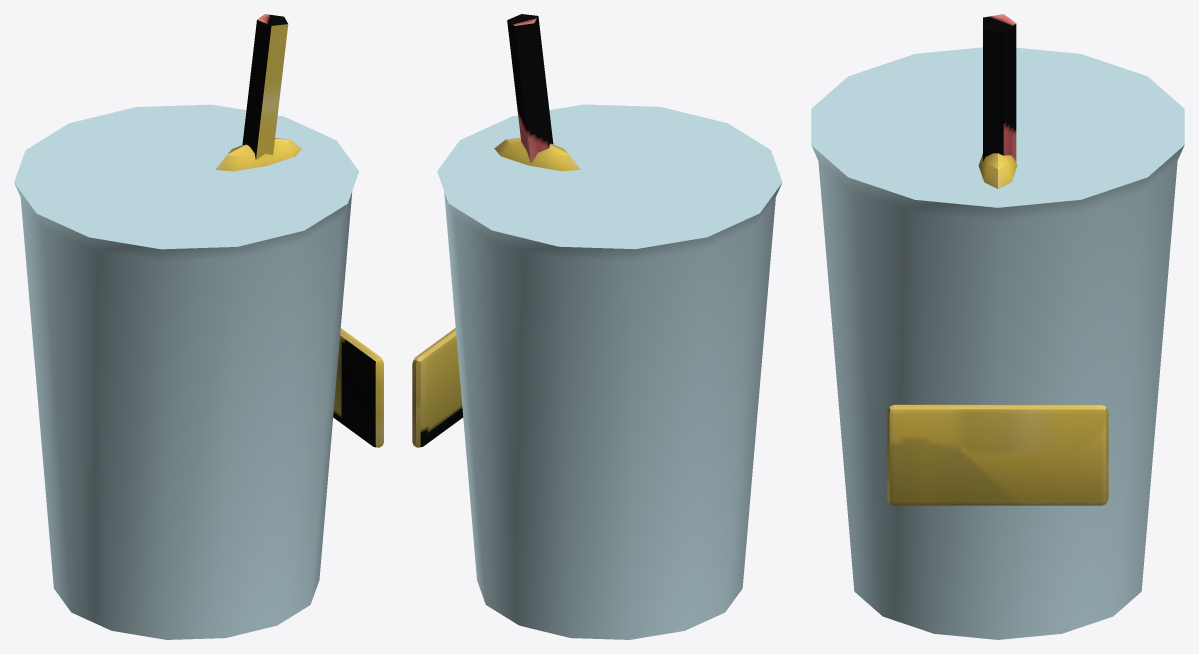
The model's file is held_cup.glb.
The picture shows the model from 3 angles, left to right: view 1: azimuth 30°, elevation 25°; view 2: azimuth 150°, elevation 25°; view 3: azimuth 270°, elevation 25°; orthographic projection. The views are drawn at different scales.
Parts seen in each view (by area): view 1: Cup, Fill; view 2: Cup, Fill; view 3: Cup, Fill.
Boxes of the visible parts, x1,y1,x2,y2 form: Cup: (14, 14, 383, 639); Fill: (215, 138, 301, 171); Cup: (412, 14, 782, 639); Fill: (494, 138, 580, 171); Cup: (811, 14, 1184, 639); Fill: (978, 153, 1017, 188).
Bounding box in the file's own units: 0.104 × 0.1806 × 0.1014.
3 materials, 1 textured.
